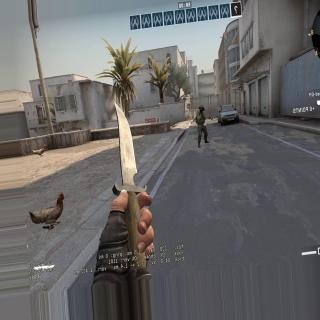CT-Body: (193, 103, 210, 147)
CT-Head: (199, 104, 205, 111)
